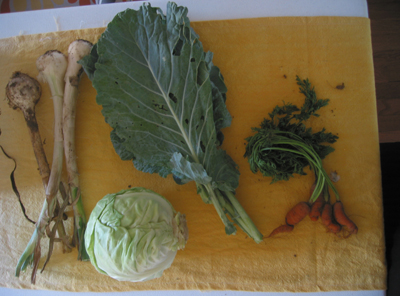cabbage: (85, 186, 189, 285)
